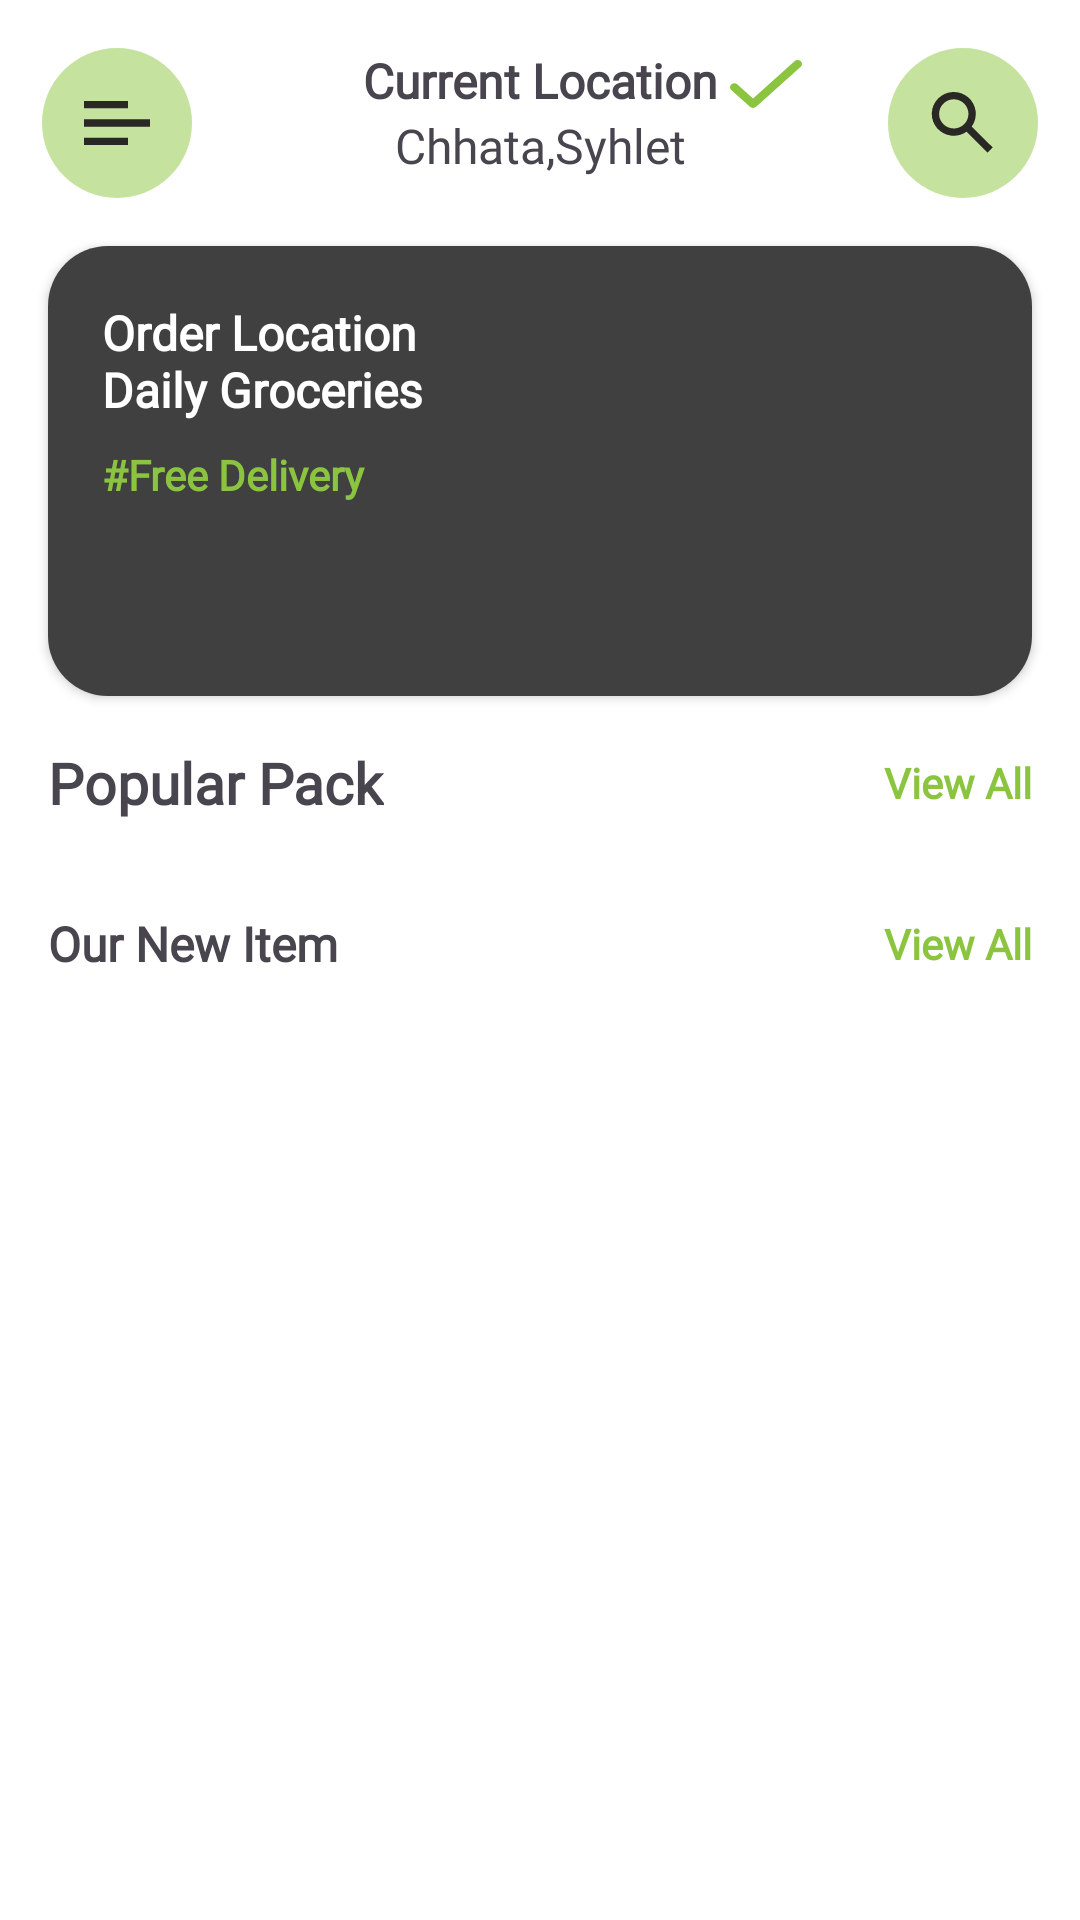

Icons on this 1080w x 1920h Android screen, each with the point to tap as (x=x, y=y):
done: (x=766, y=84)
Menu Icon: (x=117, y=123)
Search Icon: (x=963, y=123)
